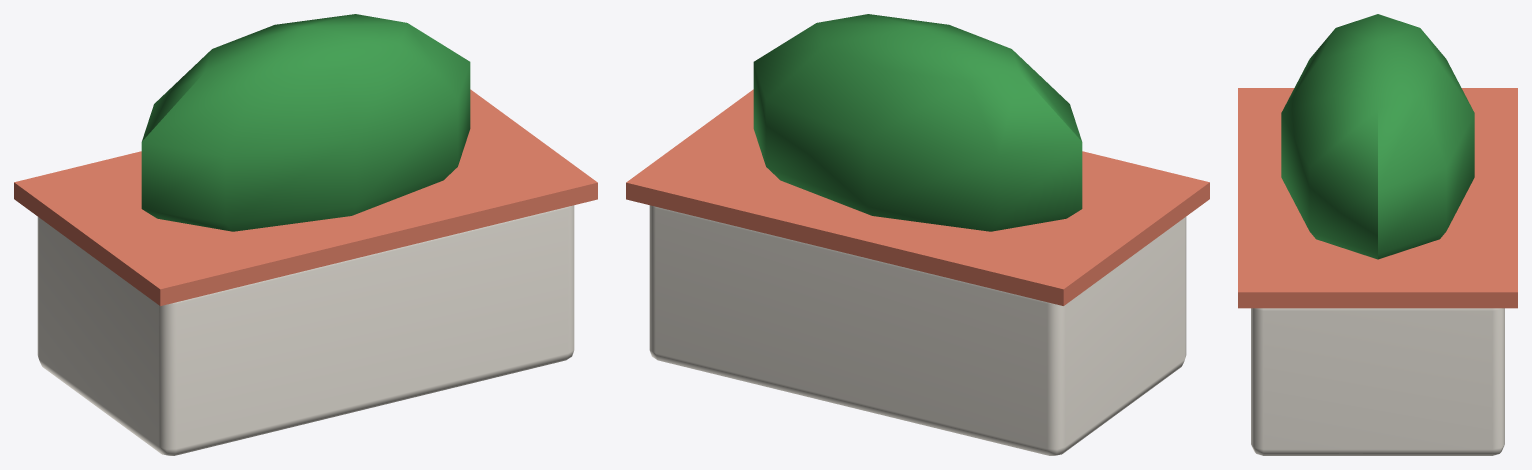
Rendered from planter_deco.glb.
3 views of the same model, side by side, from view 1: azimuth 30°, elevation 25°; view 2: azimuth 150°, elevation 25°; view 3: azimuth 270°, elevation 25° (orthographic). The views are drawn at different scales.
Visible parts, largest first — view 1: planter_deco; view 2: planter_deco; view 3: planter_deco.
Boxes of the visible parts, <box> form: planter_deco: <box>14,14,597,455</box>; planter_deco: <box>626,14,1209,455</box>; planter_deco: <box>1238,14,1517,455</box>.
Bounding box in the file's own units: 1.9 × 1.4 × 1.1.
